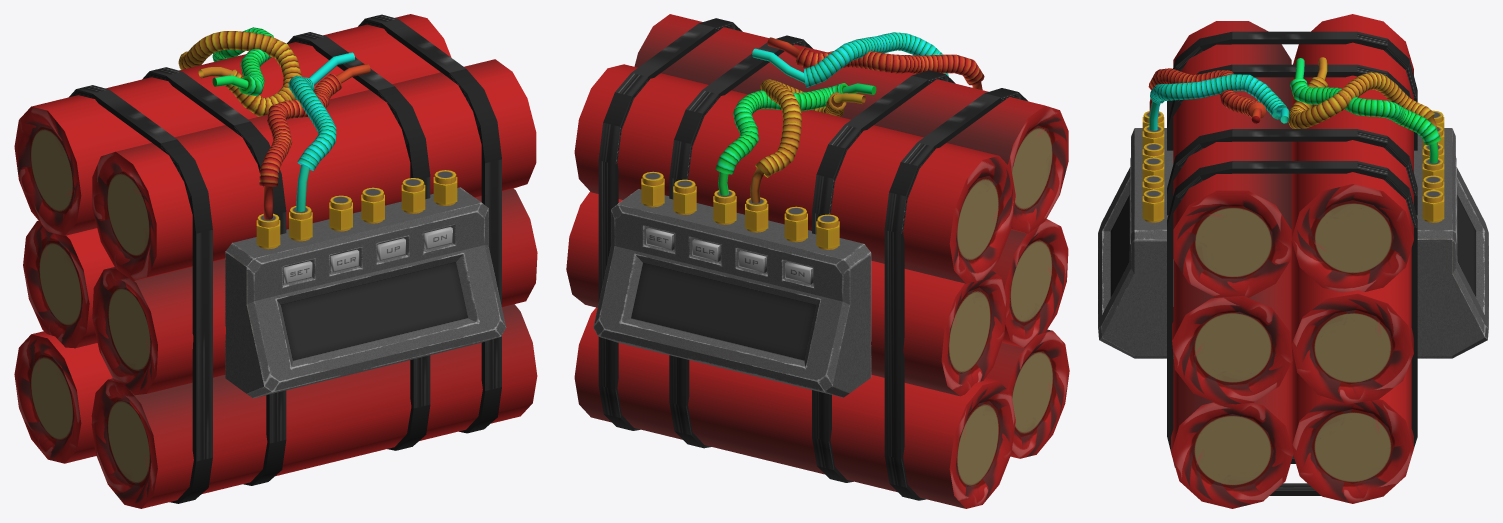
The model's file is bomb_medium.FBX.
3 views of the same model, side by side, from view 1: azimuth 30°, elevation 25°; view 2: azimuth 150°, elevation 25°; view 3: azimuth 270°, elevation 25° (orthographic). The views are drawn at different scales.
Parts seen in each view (by area): view 1: bomb_medium; view 2: bomb_medium; view 3: bomb_medium.
Part boxes in pixels (left/top/right/bottom): bomb_medium: left=14, top=14, right=537, bottom=508; bomb_medium: left=566, top=14, right=1069, bottom=508; bomb_medium: left=1098, top=14, right=1488, bottom=508.
Bounding box in the file's own units: 48.16 × 44.6 × 45.15.
